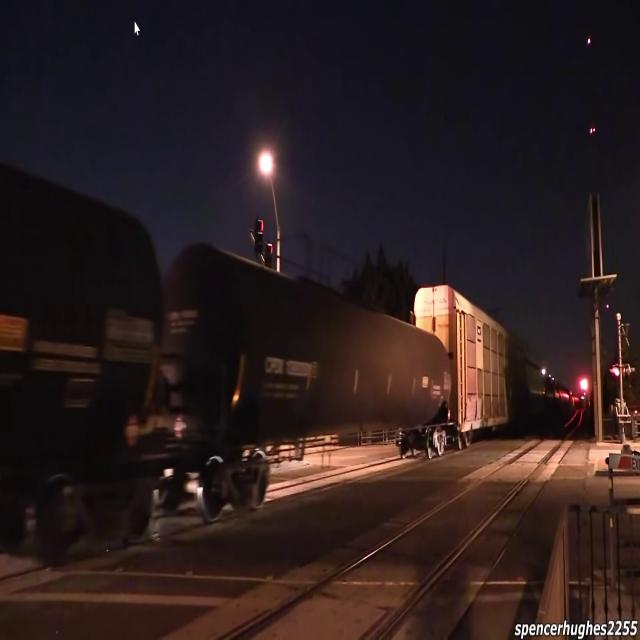autorack: (412, 268, 534, 459)
tank: (162, 232, 457, 520), (0, 147, 177, 583)
